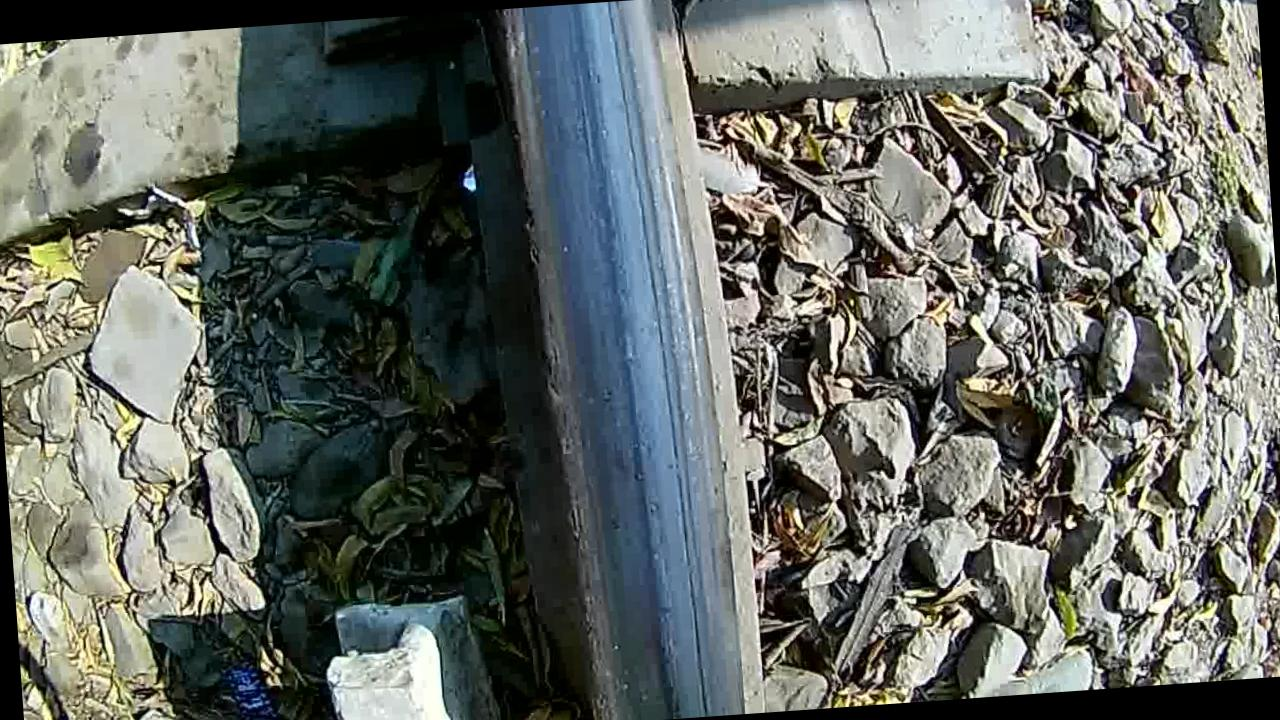clip_missing: (492, 0, 749, 720)
